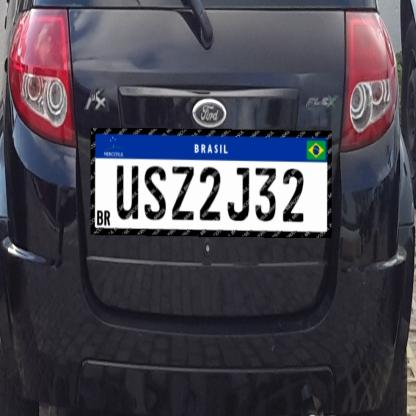PlacaM: (90, 128, 332, 238)
